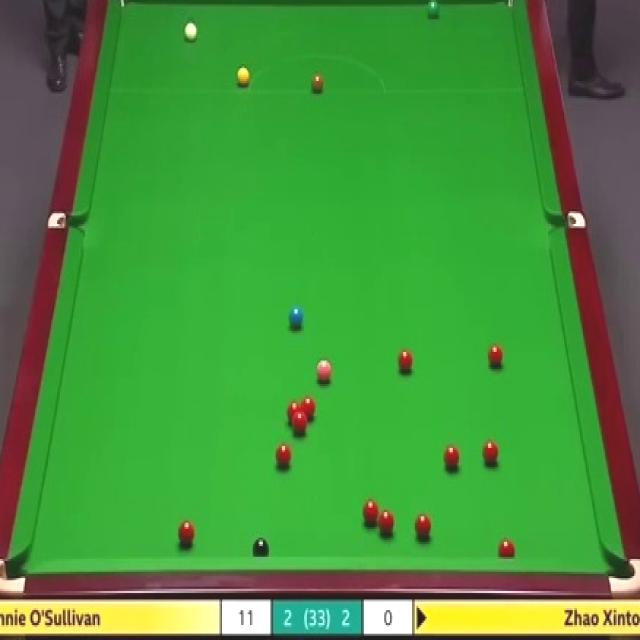black-ball: (252, 537, 271, 559)
blue-ball: (288, 304, 306, 328)
brown-ball: (311, 70, 323, 92)
green-ball: (425, 0, 440, 19)
pink-ball: (316, 359, 333, 386)
red-ball: (414, 514, 433, 542), (443, 444, 462, 472), (177, 518, 194, 548), (378, 507, 394, 538), (483, 439, 501, 466), (397, 346, 414, 374), (362, 500, 379, 526), (274, 443, 291, 469), (487, 343, 503, 370), (286, 401, 302, 427), (302, 396, 316, 422), (497, 537, 516, 556), (292, 414, 308, 436)
white-ball: (184, 21, 198, 42)
yellow-ball: (236, 68, 249, 86)
